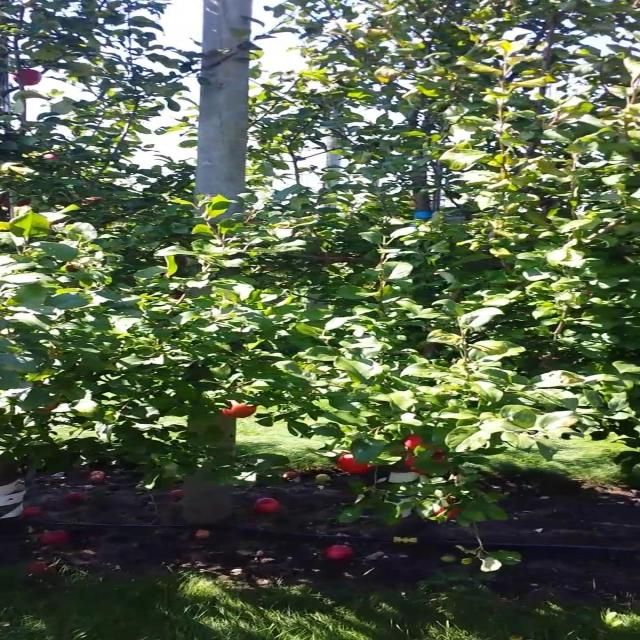apple: (404, 446, 449, 475), (338, 454, 373, 474), (220, 400, 258, 417), (13, 69, 42, 86), (436, 506, 460, 520), (404, 434, 422, 450), (42, 401, 61, 411), (13, 198, 31, 206), (42, 152, 60, 160), (444, 496, 456, 504)
